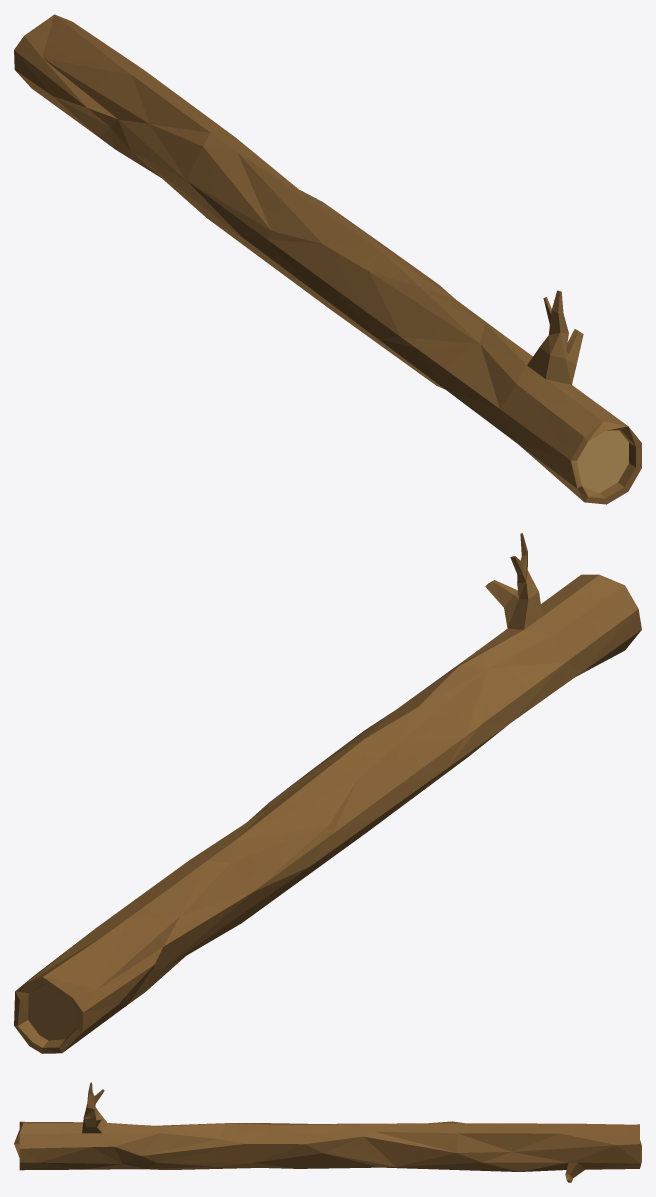
Rendered from log_7.obj.
3 renders of one model, top to bottom at view 1: azimuth 30°, elevation 25°; view 2: azimuth 150°, elevation 25°; view 3: azimuth 270°, elevation 25°, orthographic. The views are drawn at different scales.
Parts seen in each view (by area): view 1: log_7_Material; view 2: log_7_Material; view 3: log_7_Material.
Boxes of the visible parts, <box> form: log_7_Material: <box>14,14,641,504</box>; log_7_Material: <box>14,533,641,1053</box>; log_7_Material: <box>14,1082,641,1182</box>.
Bounding box in the file's own units: 0.0736 × 0.1461 × 0.8774.
